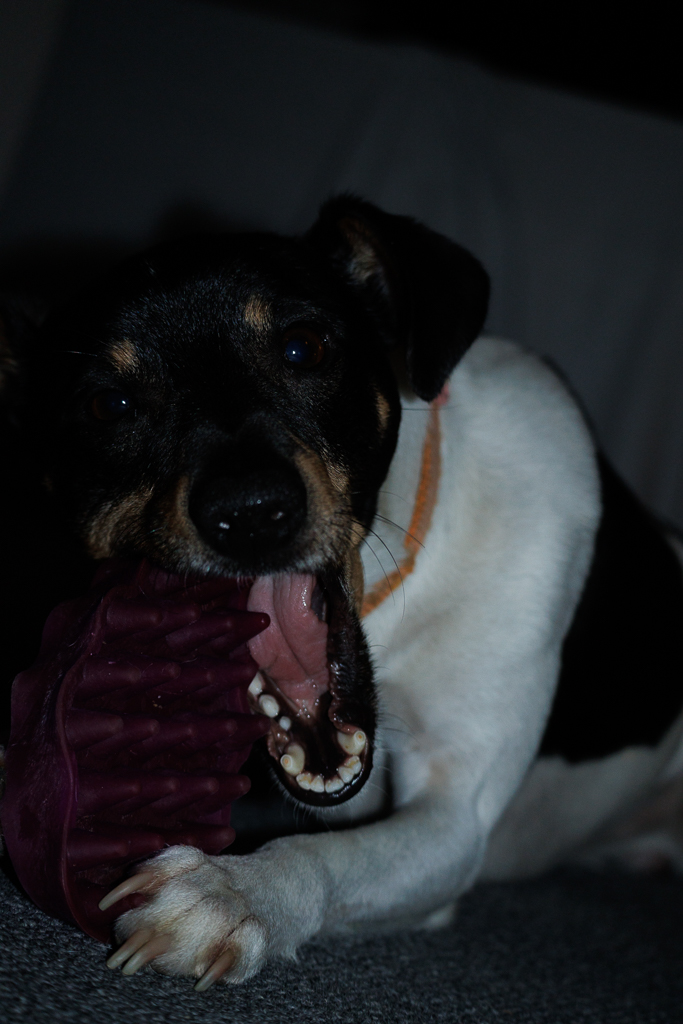Dog: (0, 184, 683, 1003)
